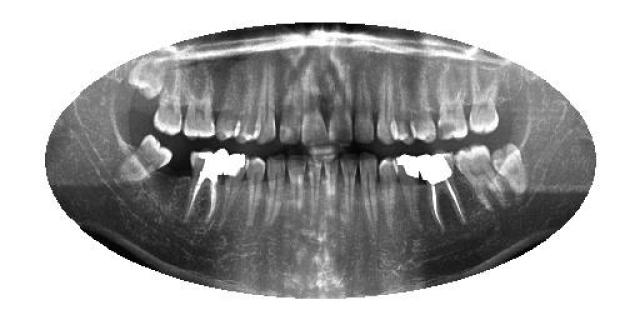Cavity: (435, 72, 470, 140)
Fillings: (392, 154, 422, 232), (218, 150, 246, 228)
Implant: (420, 152, 468, 232), (184, 145, 228, 226)
